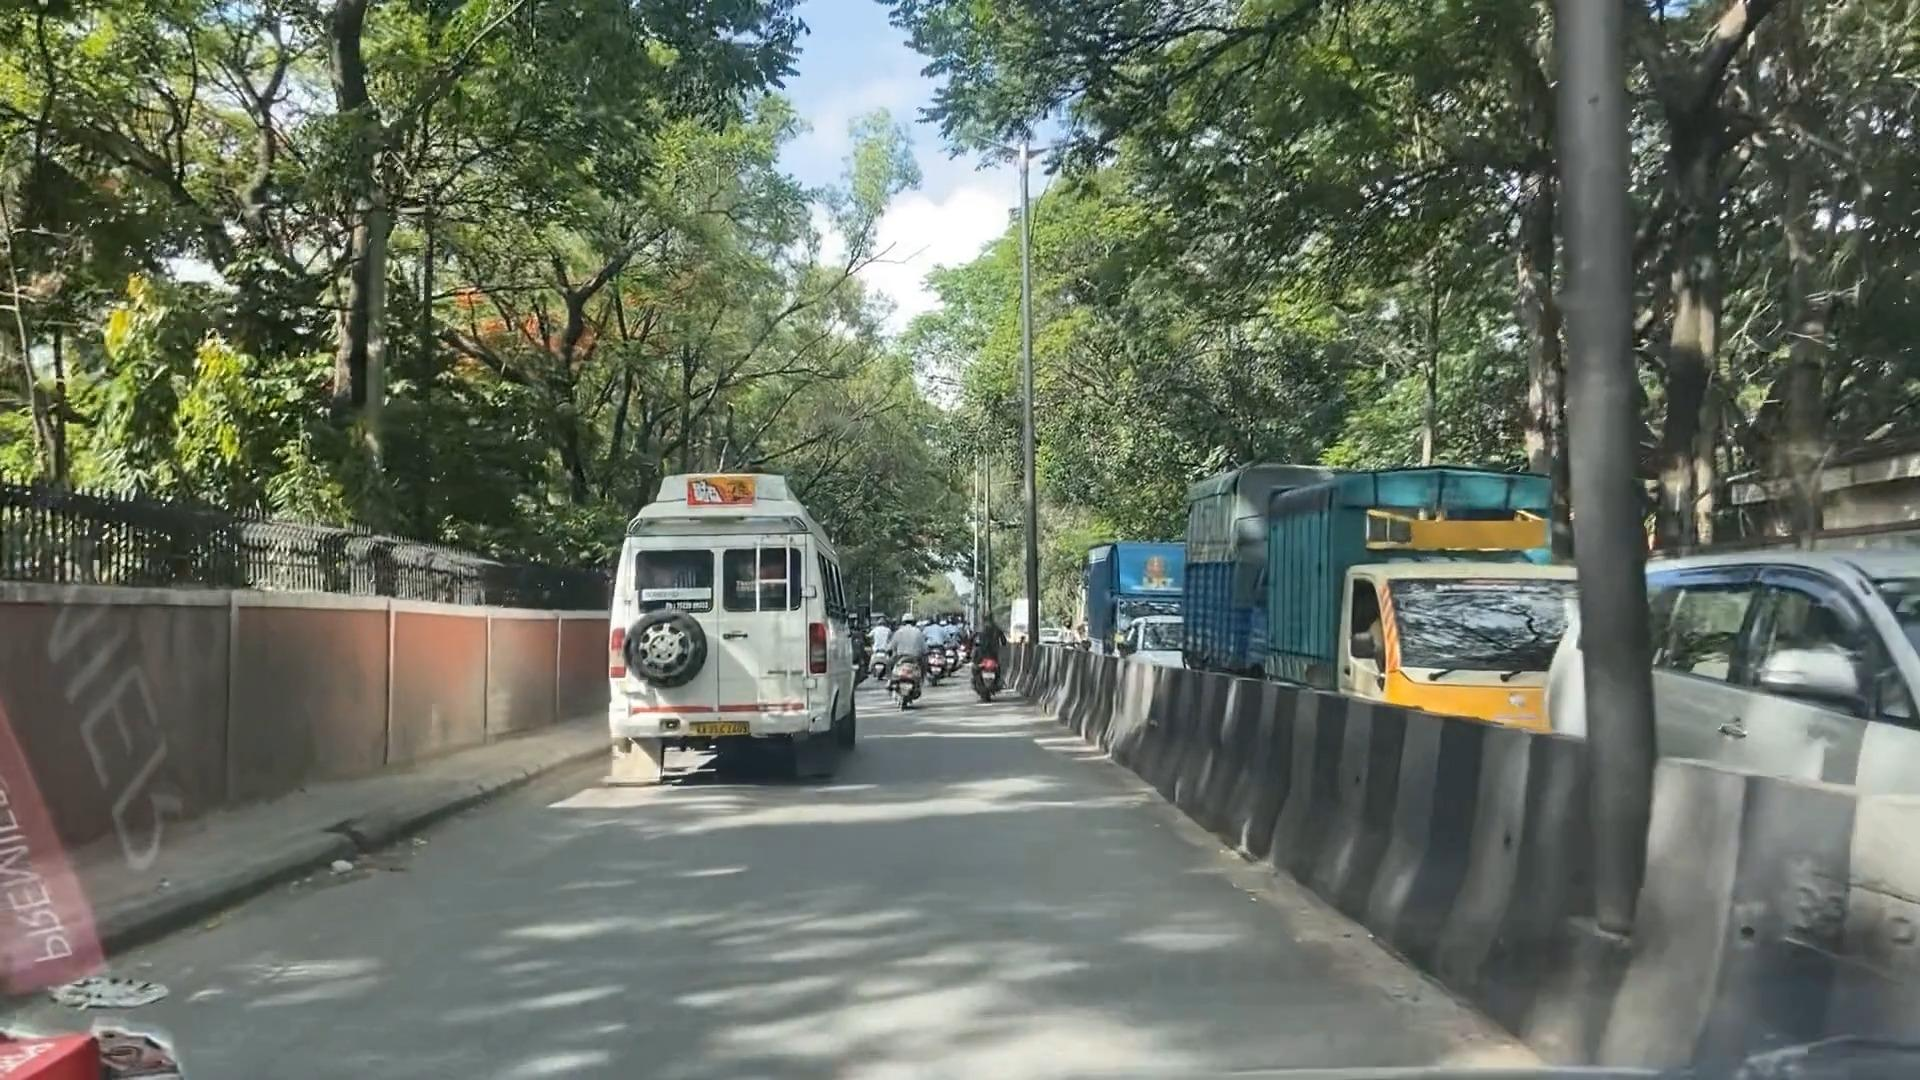HMV: (626, 469, 835, 781)
LMV: (973, 589, 1017, 716), (890, 604, 935, 705)
